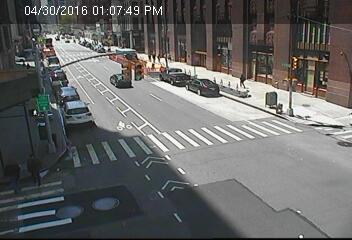neg: (124, 87, 146, 117), (75, 56, 95, 83), (312, 43, 330, 66), (201, 23, 217, 44), (184, 138, 199, 158), (62, 48, 76, 66), (284, 38, 297, 56), (253, 49, 266, 66), (260, 195, 272, 211), (176, 26, 187, 40), (102, 32, 111, 45)
pos: (1, 157, 29, 195), (19, 151, 45, 186), (237, 70, 251, 88), (157, 52, 166, 63), (143, 51, 151, 62)
